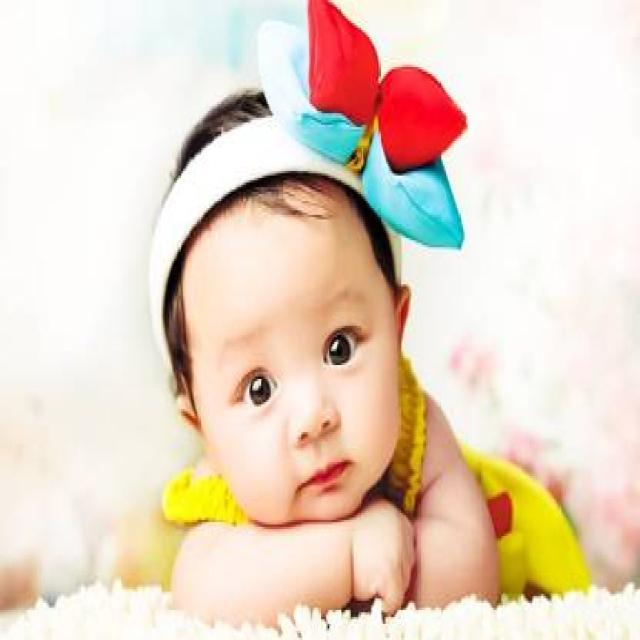non-dog: (146, 1, 597, 628)
